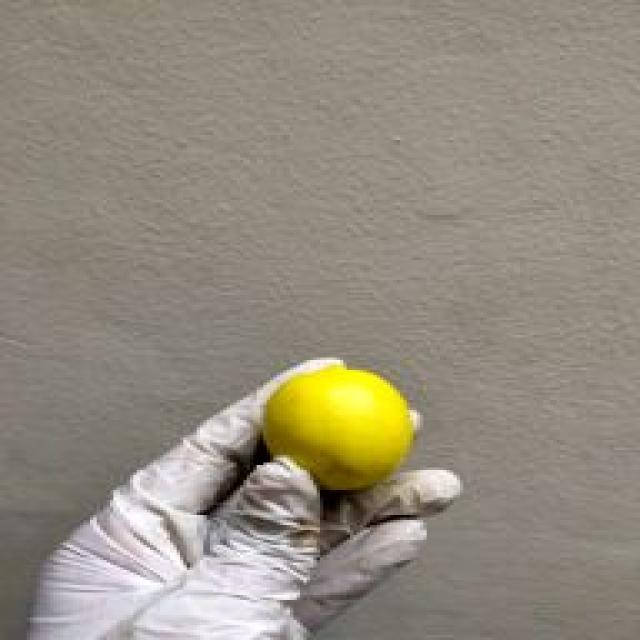lemon: (263, 366, 413, 489)
